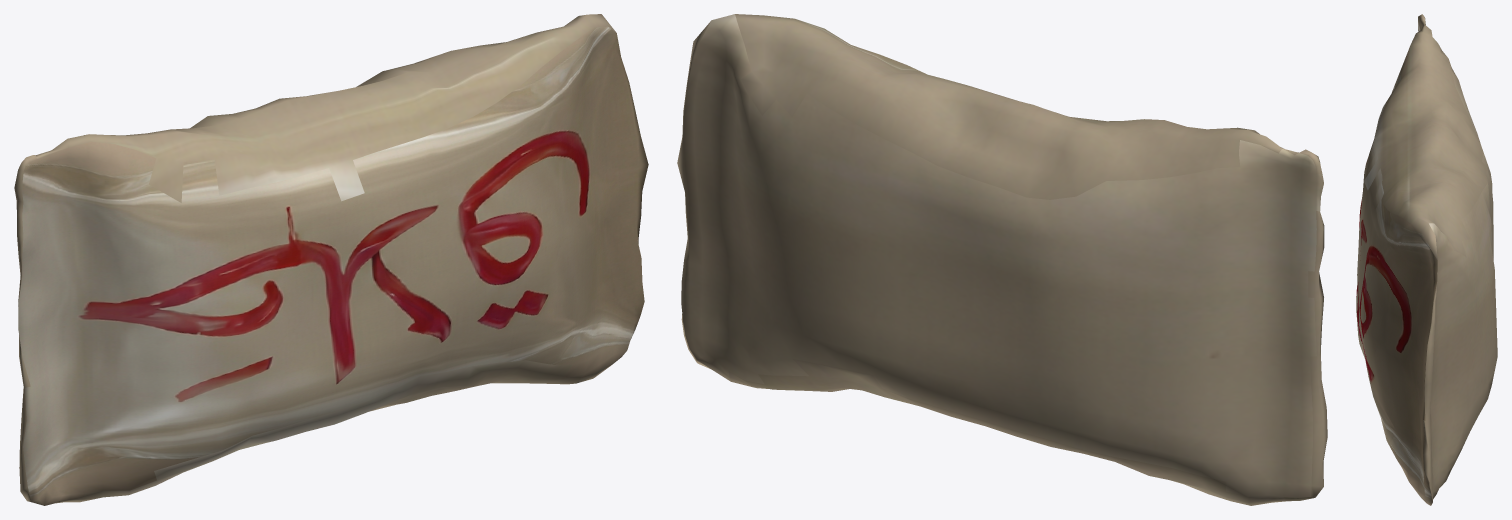
File: CANDY WRAPPER MODEL.fbx
The picture shows the model from 3 angles, left to right: view 1: azimuth 30°, elevation 25°; view 2: azimuth 150°, elevation 25°; view 3: azimuth 270°, elevation 25°; orthographic projection. The views are drawn at different scales.
Visible parts, largest first — view 1: base_Mesh; view 2: base_Mesh; view 3: base_Mesh.
Part boxes in pixels (bbox=[...]): base_Mesh: bbox=[14, 14, 648, 505]; base_Mesh: bbox=[677, 14, 1327, 505]; base_Mesh: bbox=[1356, 14, 1497, 505].
Bounding box in the file's own units: 6.11 × 3.39 × 1.54.
1 material, 1 textured.
